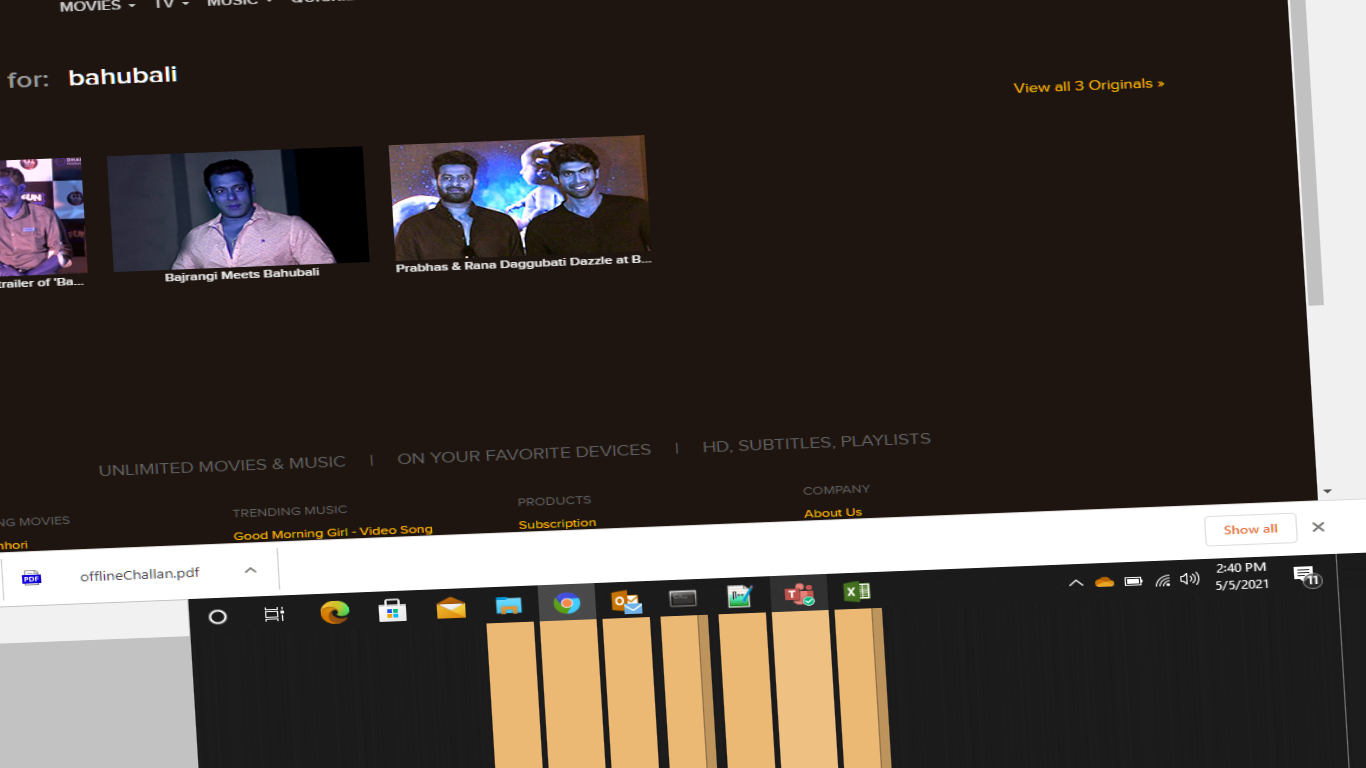resultsfound: (1, 58, 194, 105)
